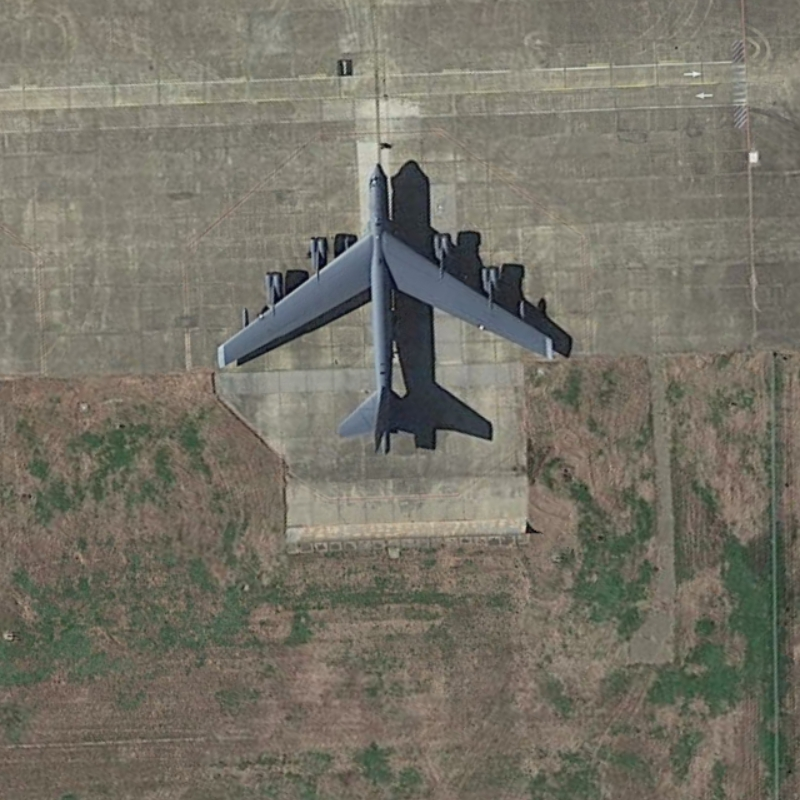A8: (204, 143, 562, 455)
